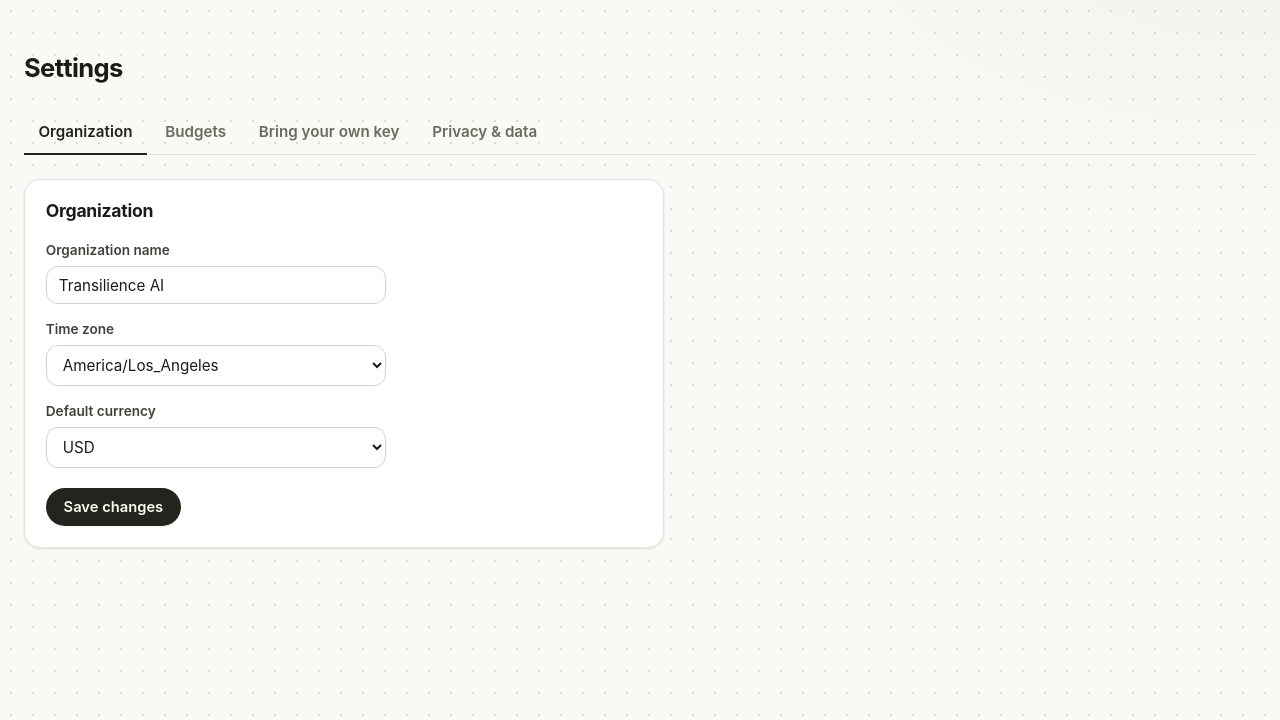
SettingsPage › edits and saves the organization name
The image size is (1280, 720).
Replace the text in the field labelled "Organization name" with "Acme Security" at (216, 285), box left=46, top=266, right=386, bottom=304
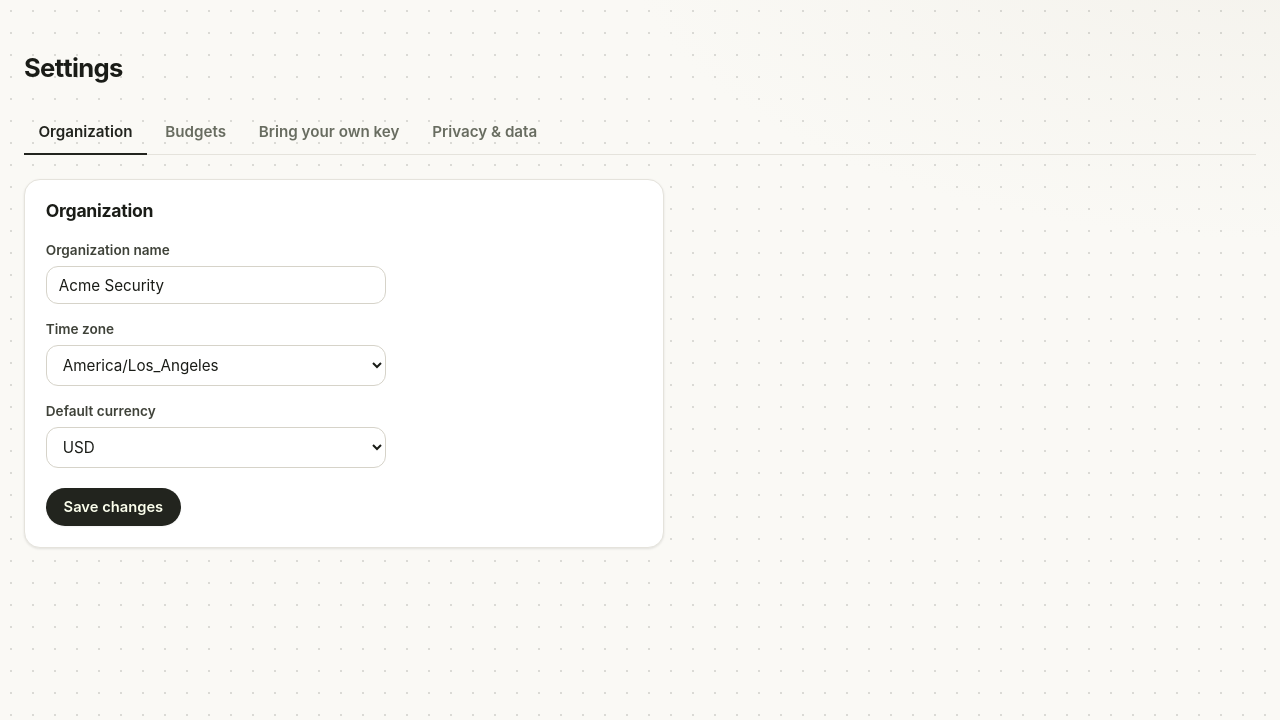
Click the button "Save changes" at (113, 507), box left=46, top=488, right=181, bottom=526
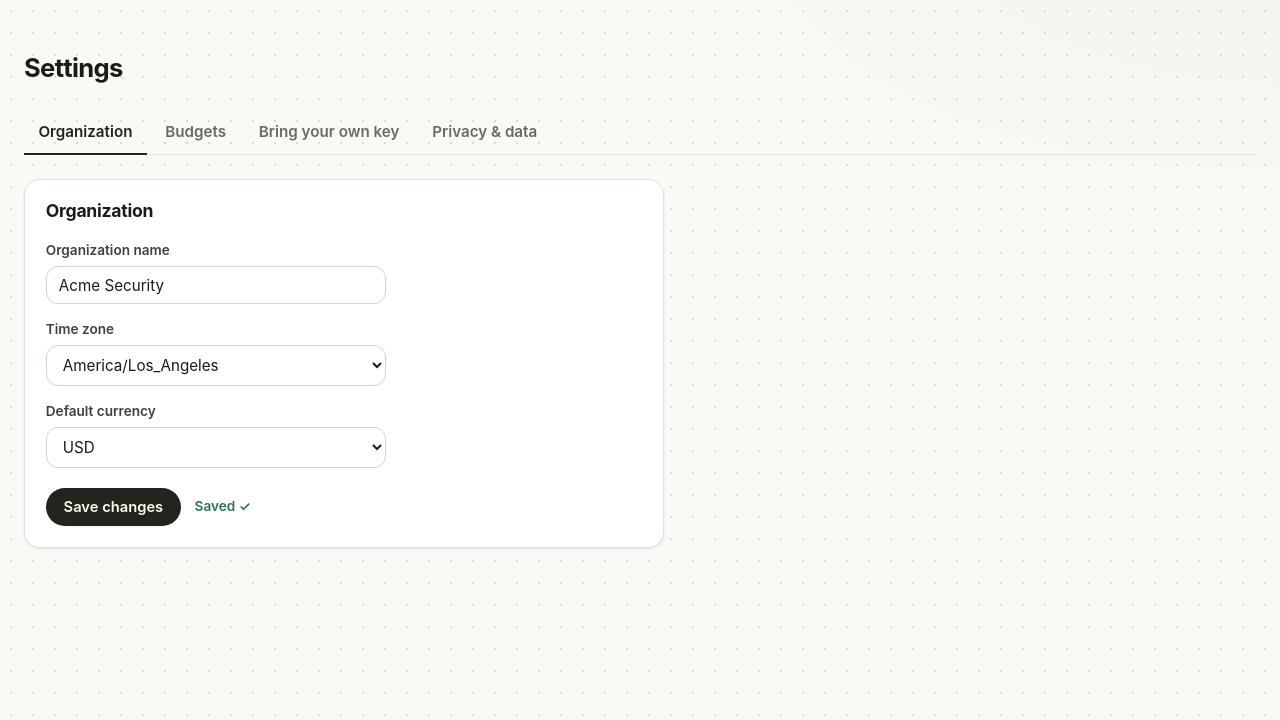
Expected: the text "Saved ✓" is shown, left=195, top=496, right=251, bottom=517
